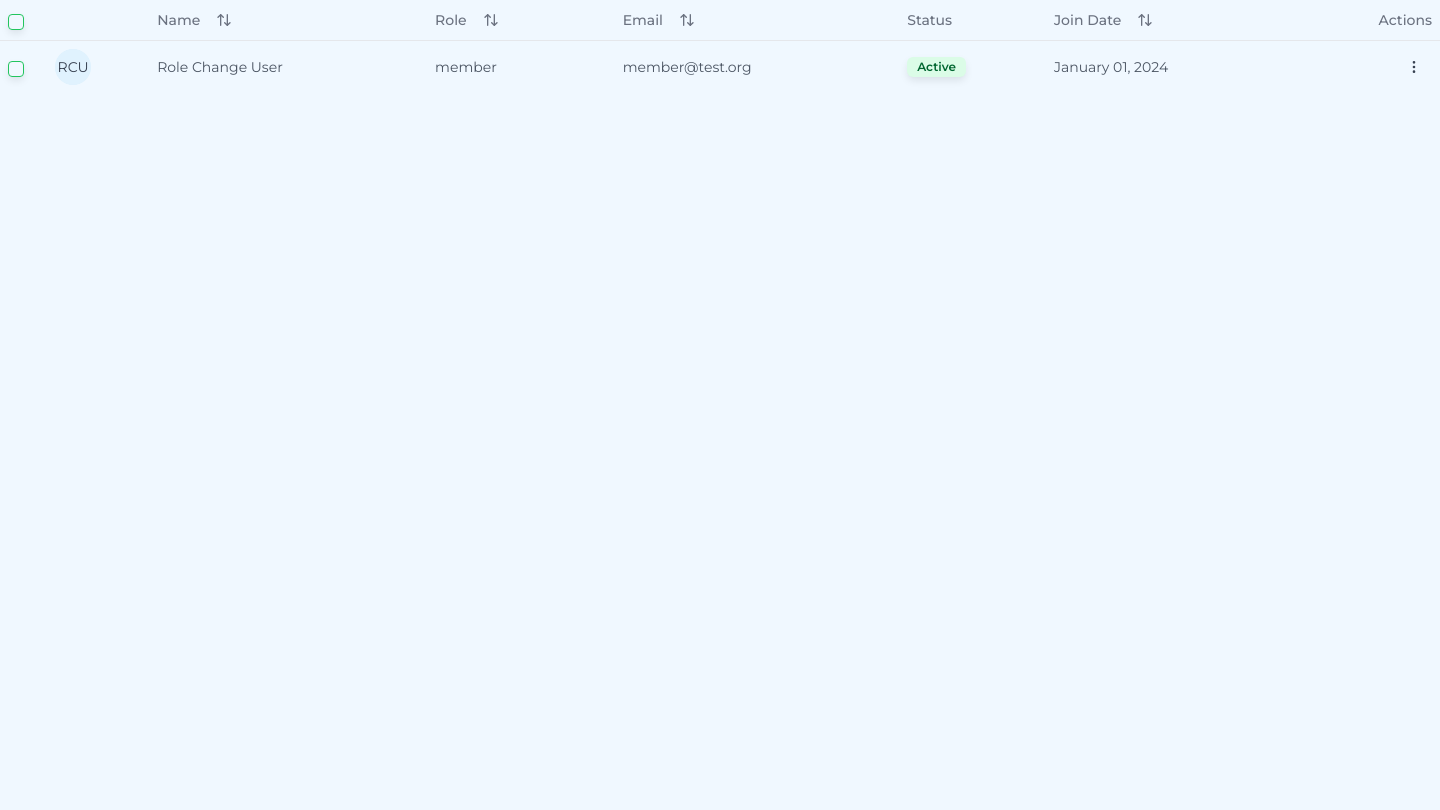
Scenario: MembersTable › changes a member role from the members actions
Check: the text "member" is shown, box x1=435 y1=58 x2=497 y2=76
Click the button named "actions for role change user" at coordinates (1414, 66), box x1=1396 y1=48 x2=1432 y2=84
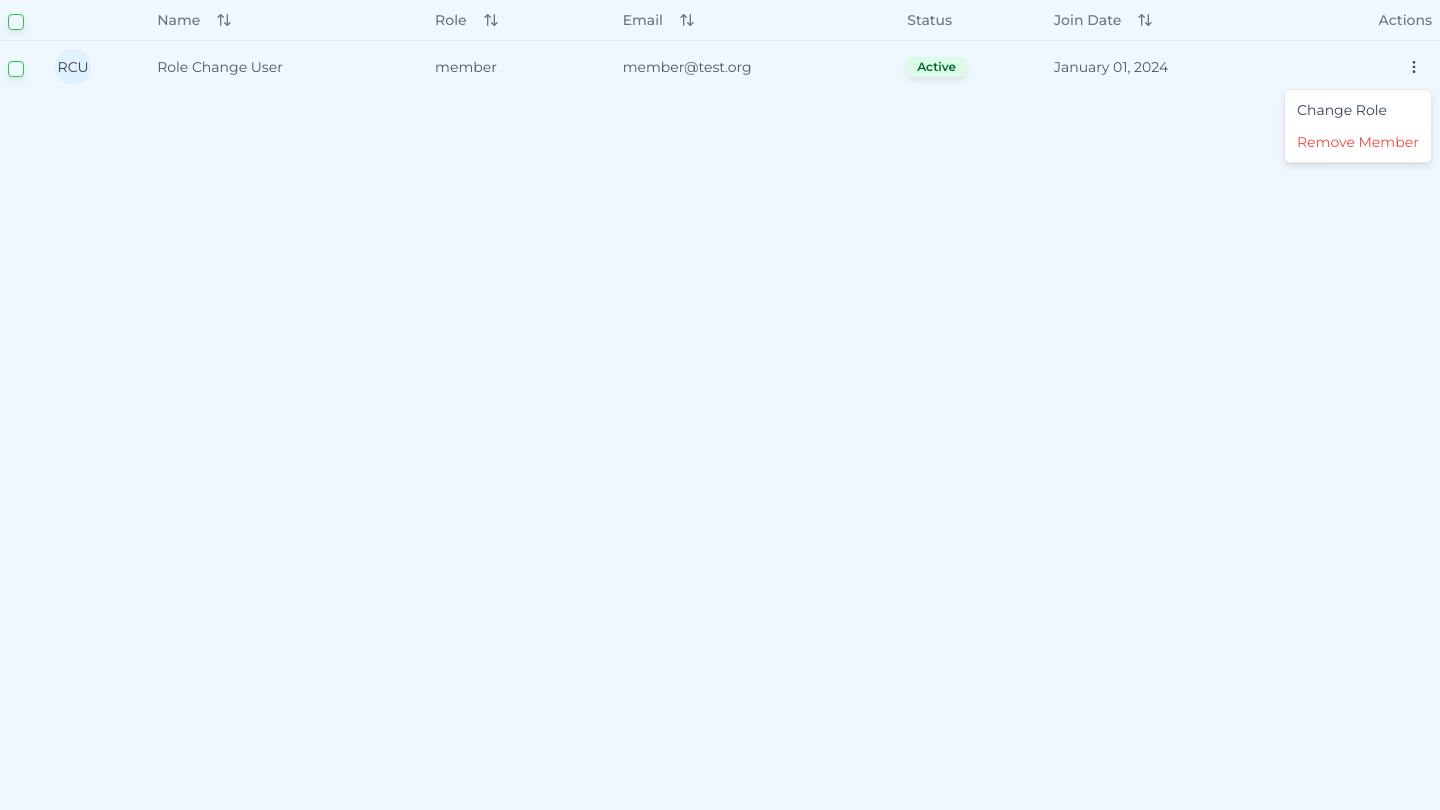
Click the menu item "Change Role" at coordinates (1342, 110), box x1=1297 y1=101 x2=1387 y2=119
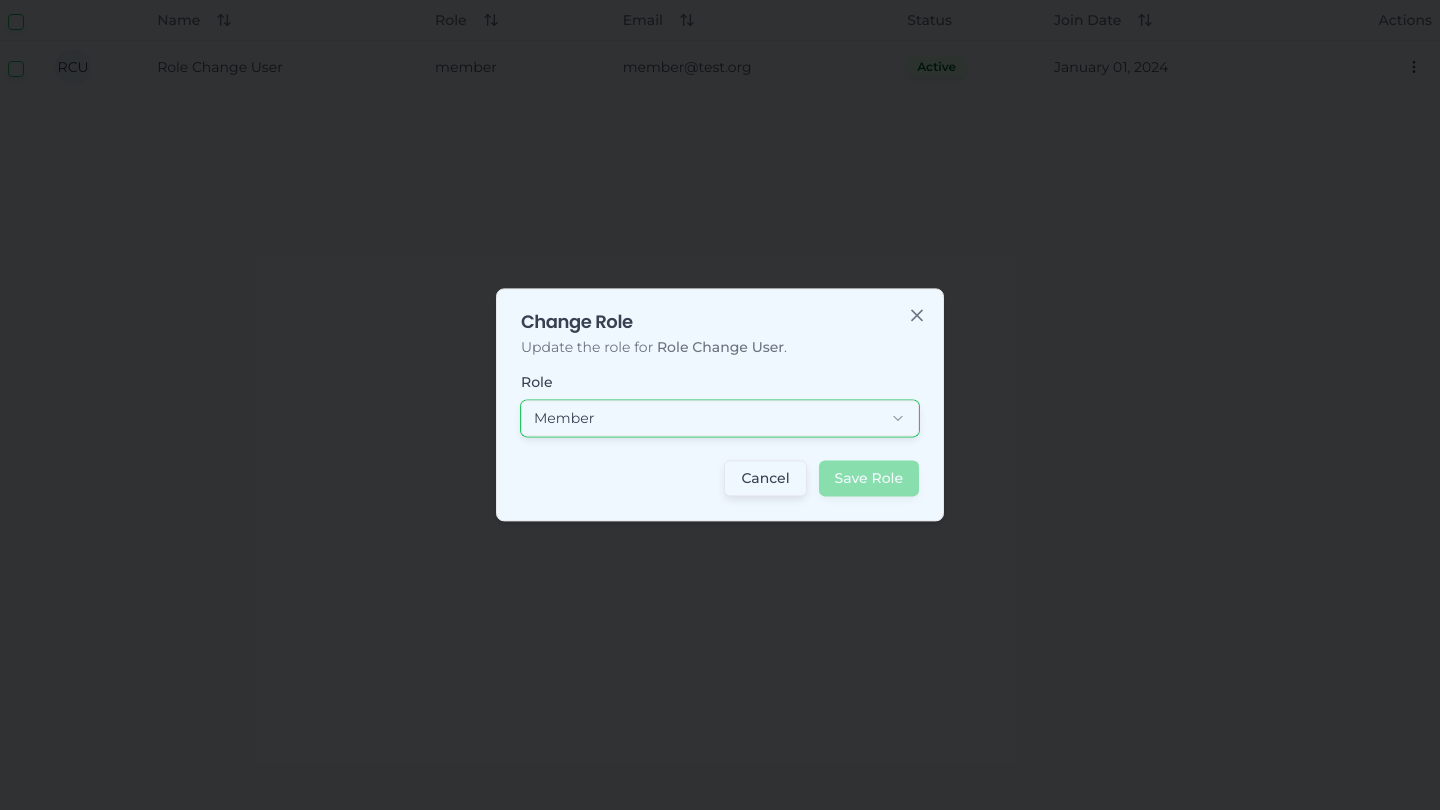
Click the dropdown at coordinates (564, 419), box x1=521 y1=401 x2=919 y2=437
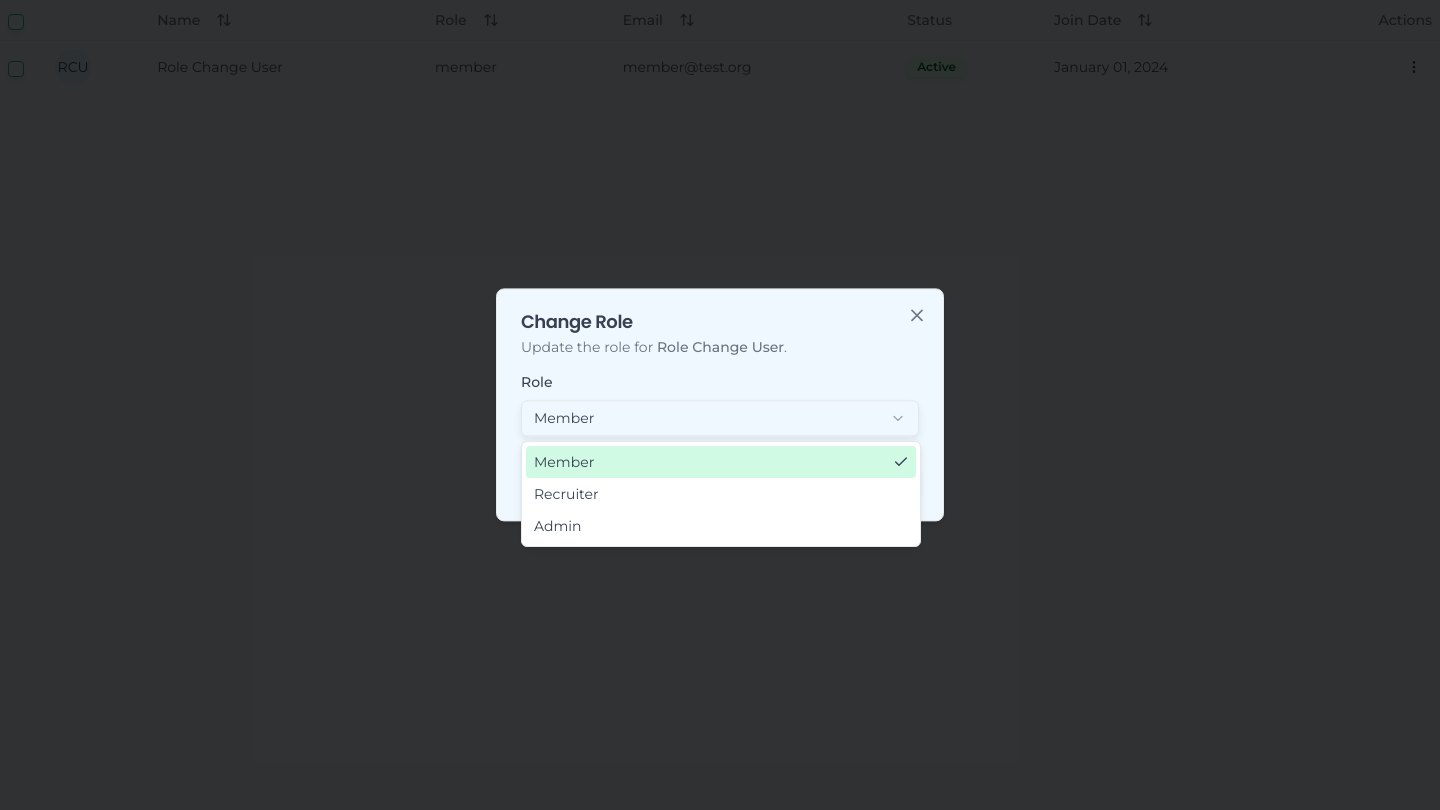
Click the option "Recruiter" at coordinates (566, 494), box x1=534 y1=485 x2=599 y2=503
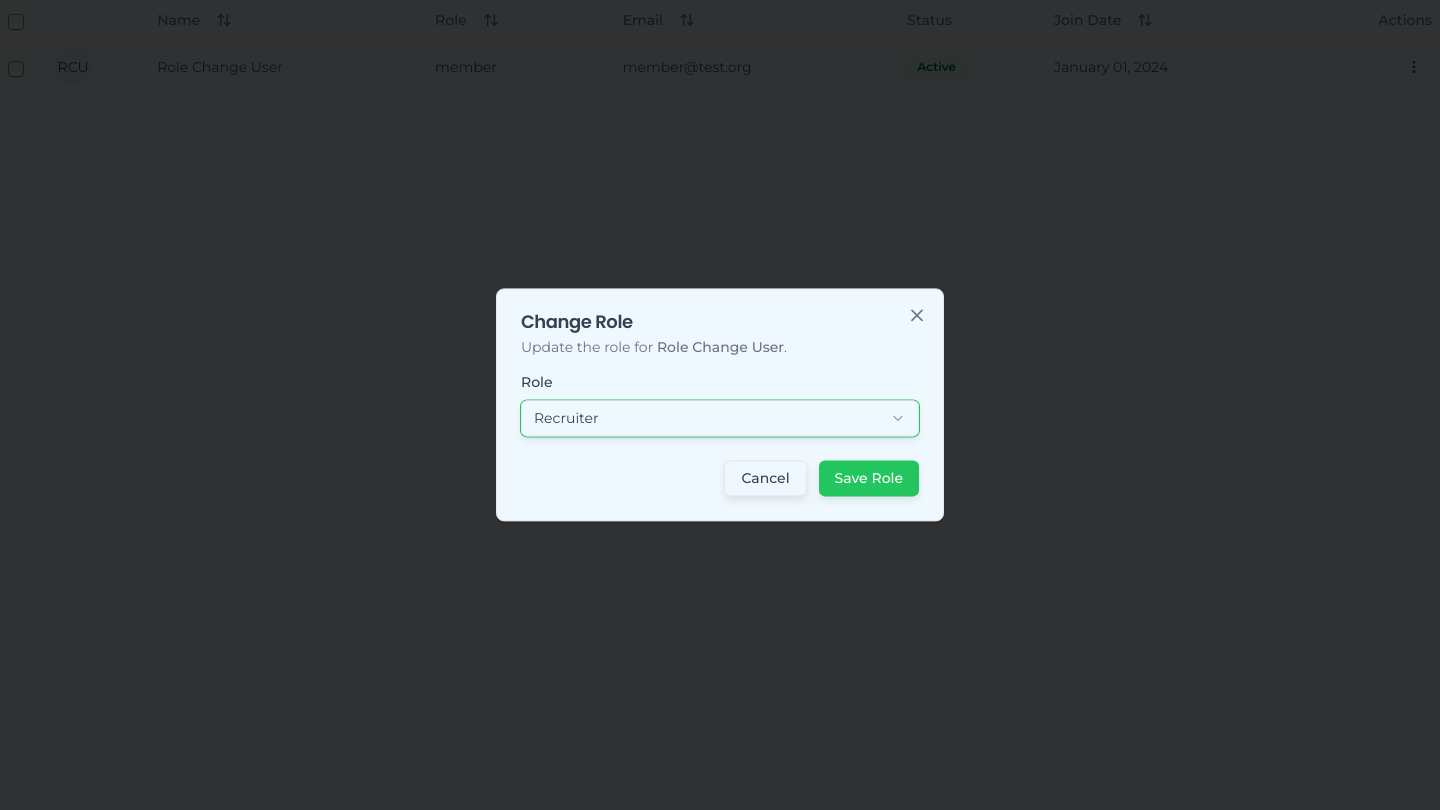
Click the button "Save Role" at coordinates (869, 479), box x1=819 y1=461 x2=919 y2=497
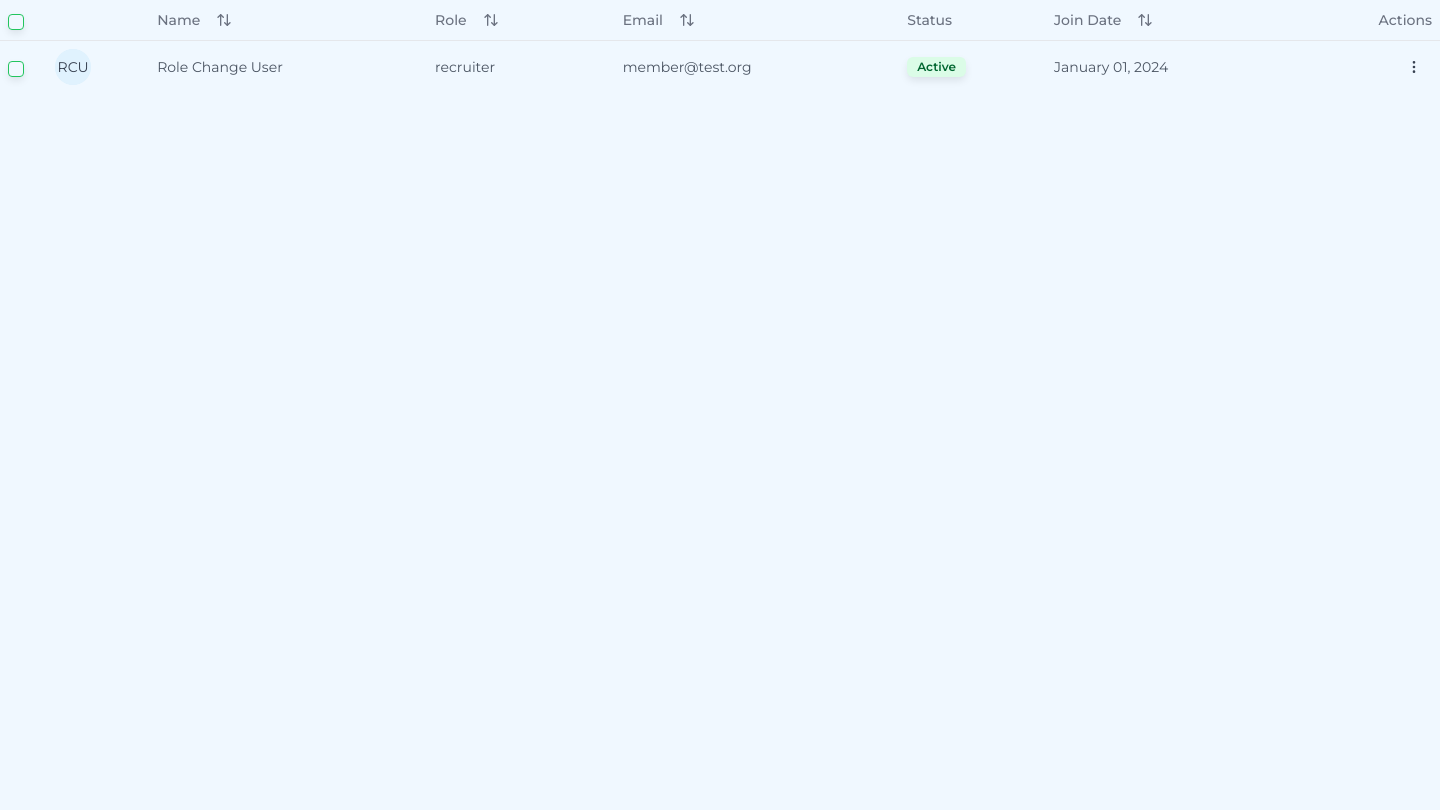
Check: the text "recruiter" is shown, box x1=435 y1=58 x2=495 y2=76
